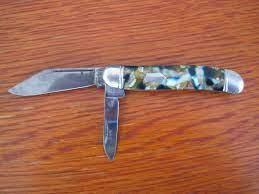Knife: (7, 63, 245, 160)
